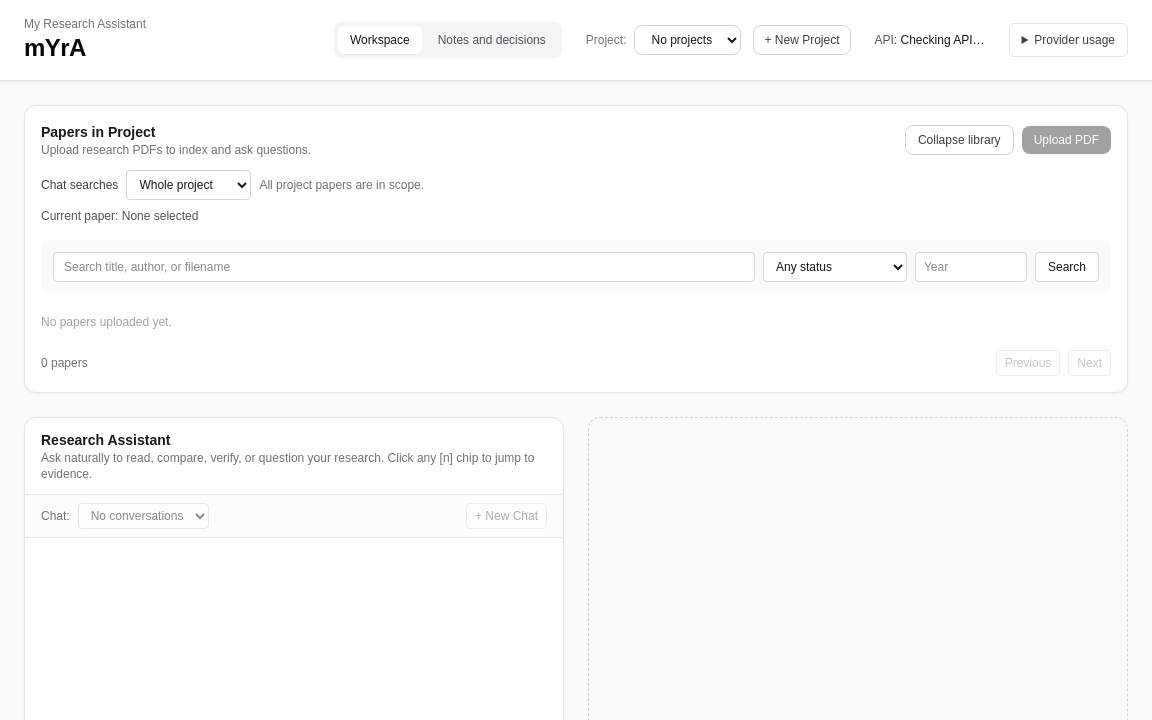
Test: Home › resolves a saved paper source outside the loaded library page and shows the exact-text fallback
Step 1. Click the button "Notes and decisions" → (492, 40), box left=426, top=26, right=558, bottom=54
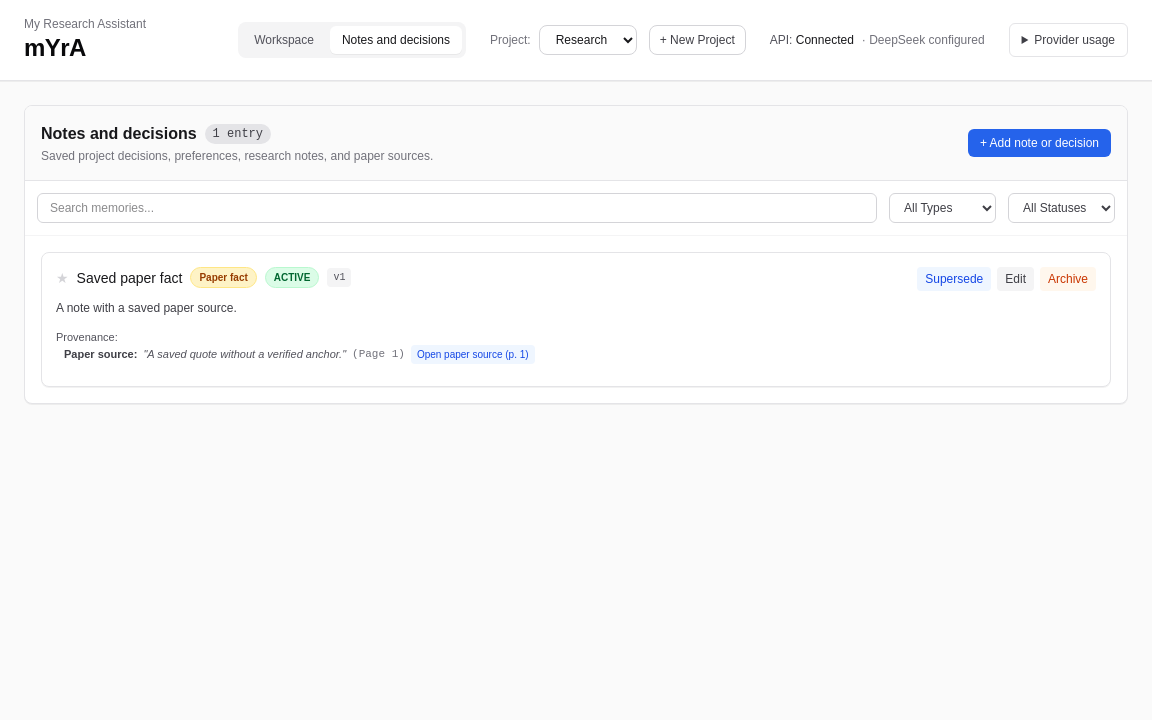
Step 2. Click the button "Open paper source (p. 1)" → (473, 354), box left=411, top=345, right=535, bottom=364
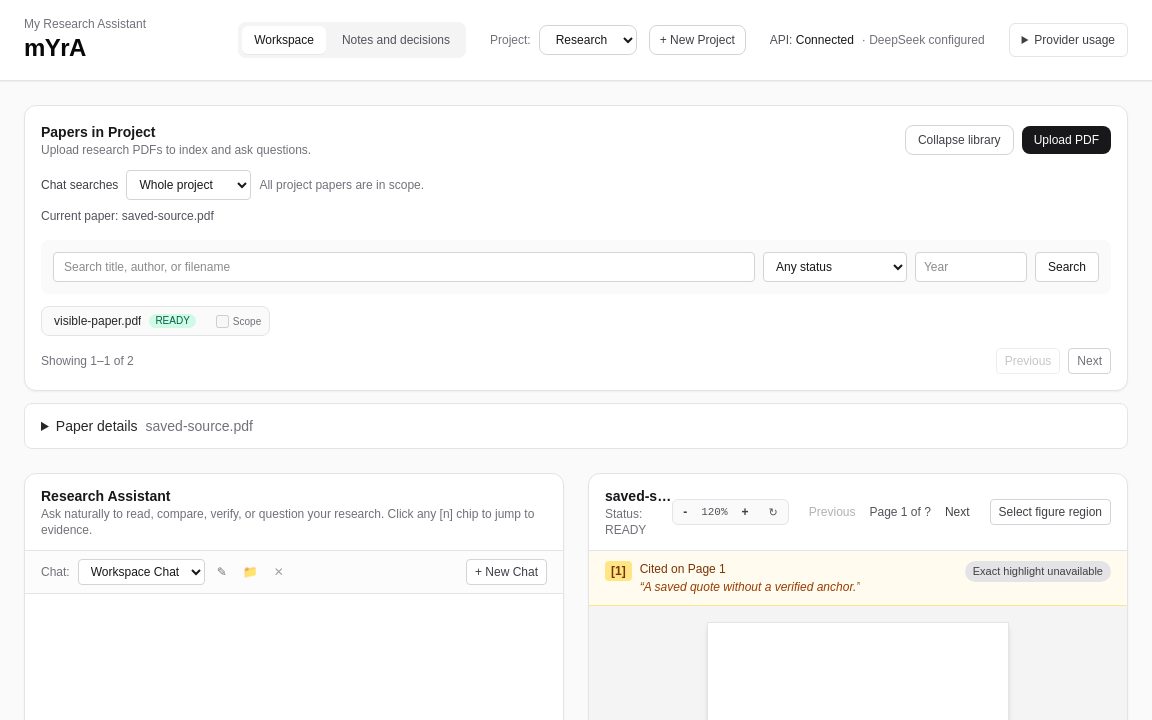
Expected: the text "Exact highlight unavailable" is shown, left=965, top=561, right=1111, bottom=582
Expected: the text "Cited on Page 1" is shown, left=640, top=562, right=726, bottom=576
